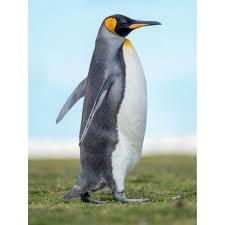king: (61, 4, 172, 210)
